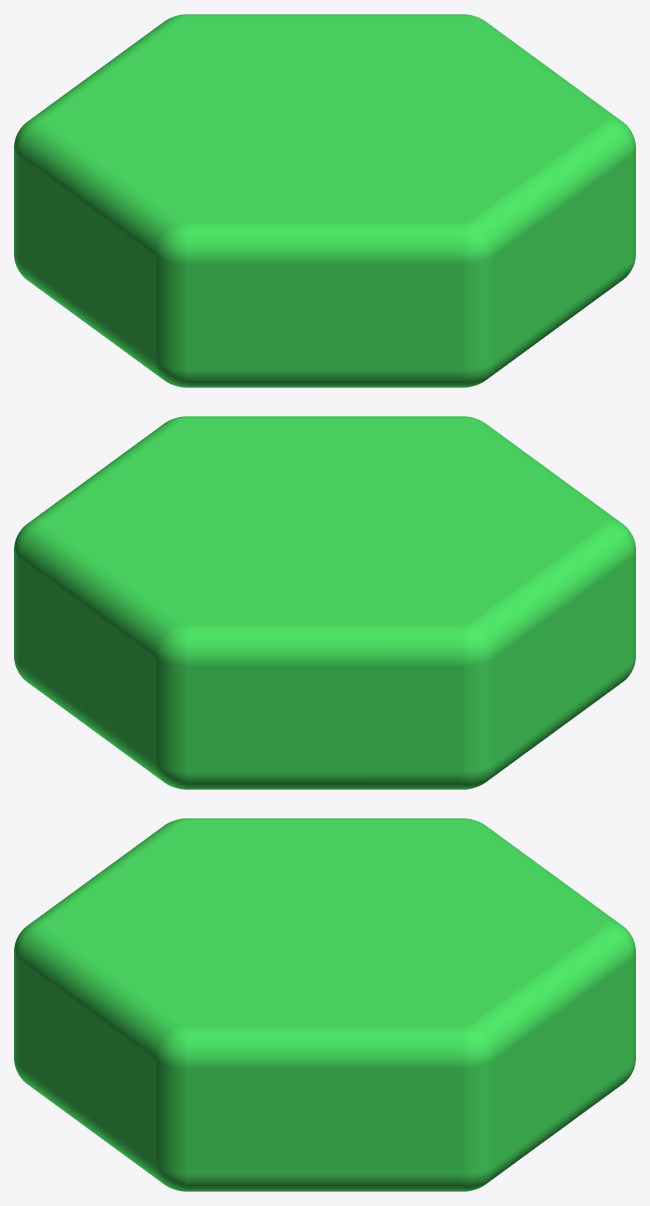
The model's file is hex4.fbx.
The picture shows the model from 3 angles, top to bottom: view 1: azimuth 30°, elevation 25°; view 2: azimuth 150°, elevation 25°; view 3: azimuth 270°, elevation 25°; orthographic projection.
Parts seen in each view (by area): view 1: hex; view 2: hex; view 3: hex.
Boxes of the visible parts, x1,y1,x2,y2 form: hex: (14, 14, 635, 387); hex: (14, 416, 635, 789); hex: (14, 818, 635, 1191).
Bounding box in the file's own units: 1412 × 460 × 1600.
